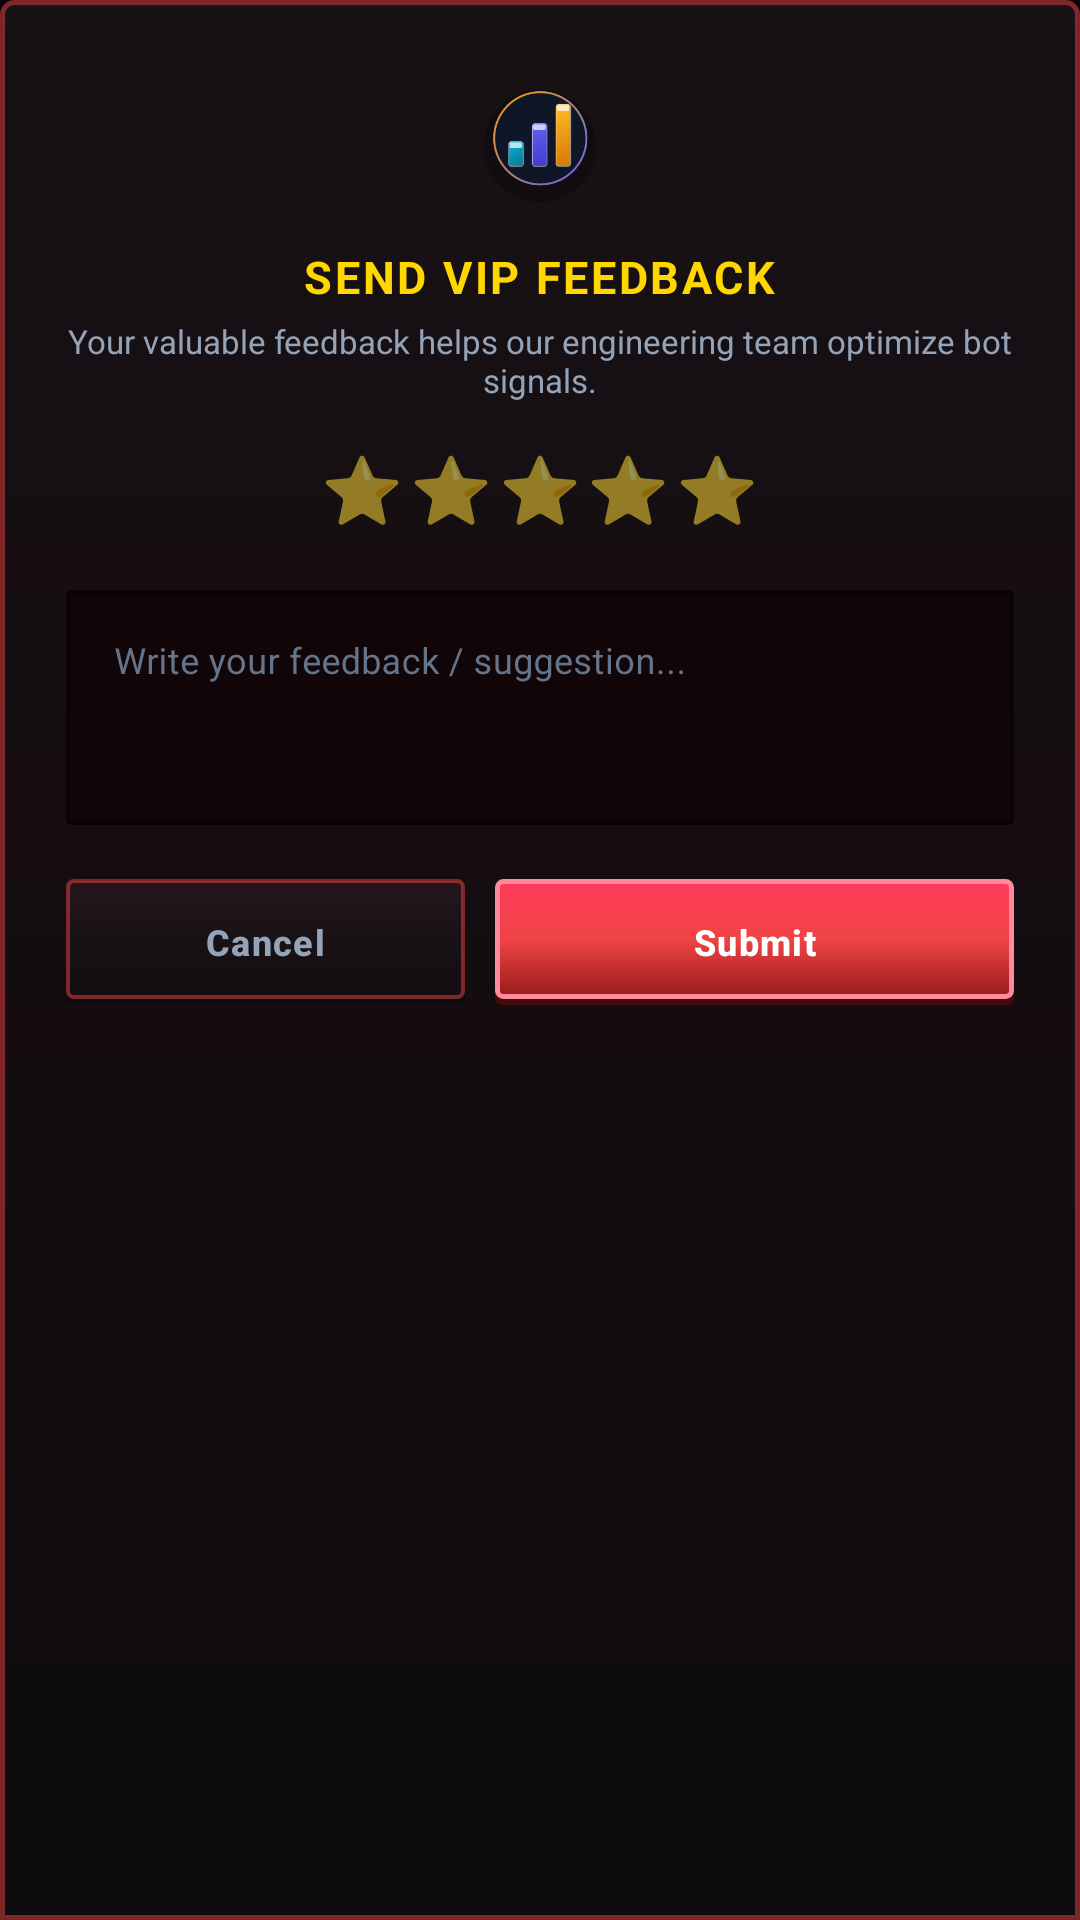

Point at icon controls on the screen. Image size 1080px×1920px, points as [x,y].
analytics 3d: [540,138]
